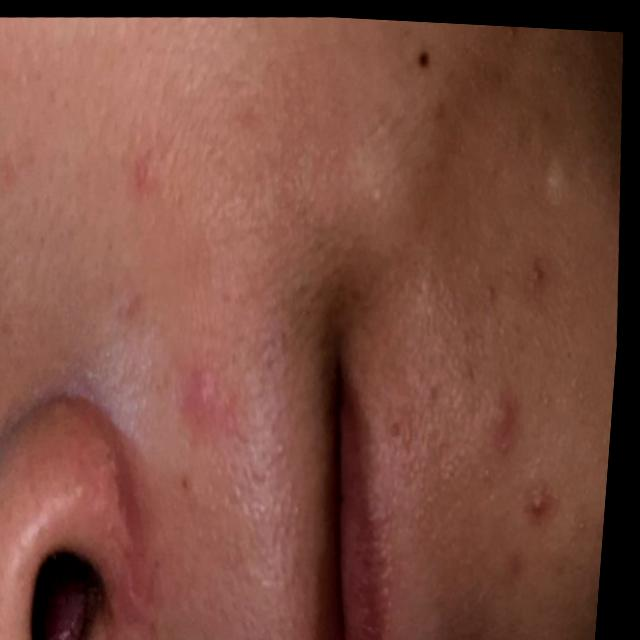papule: (486, 362, 546, 463), (183, 327, 234, 427), (126, 145, 157, 191)
pustule: (508, 470, 583, 534)
